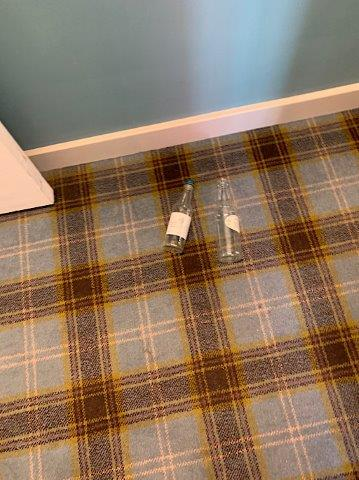botolkaca: (216, 179, 241, 261), (165, 180, 192, 252)
